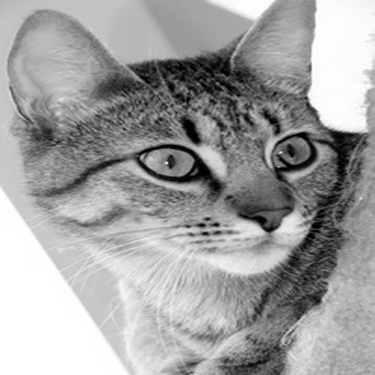cat: (1, 24, 364, 364)
